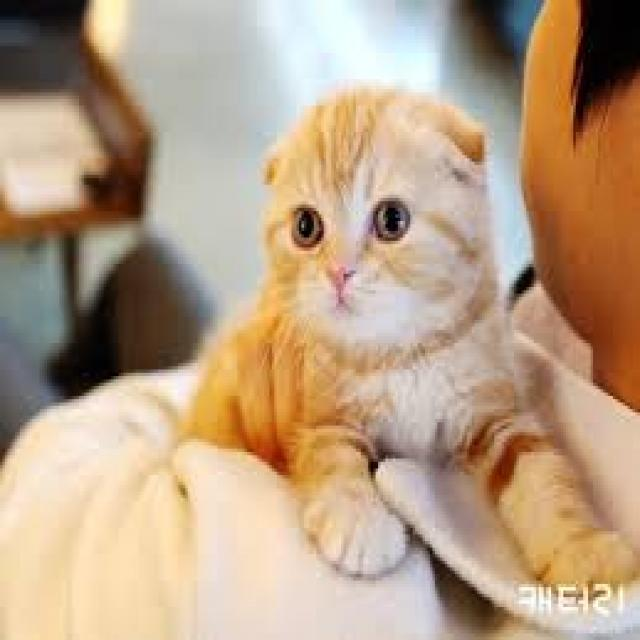cat-face: (154, 36, 603, 460)
